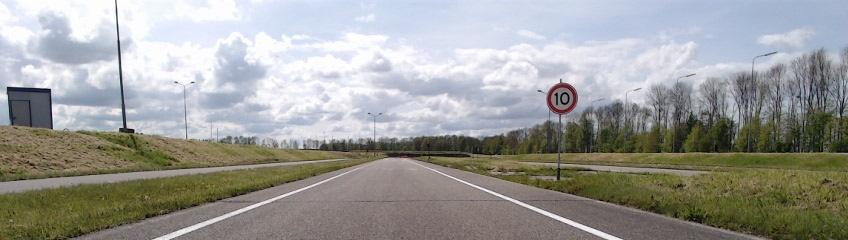Speed-limit-10km-h-: (547, 83, 578, 114)
